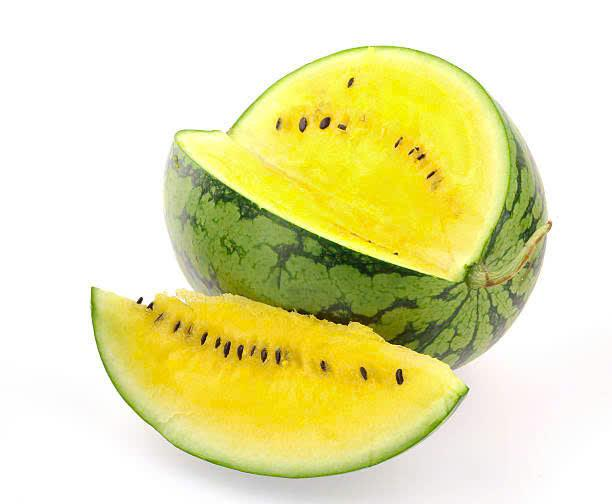watermelon: (173, 29, 561, 323), (63, 254, 475, 476)
